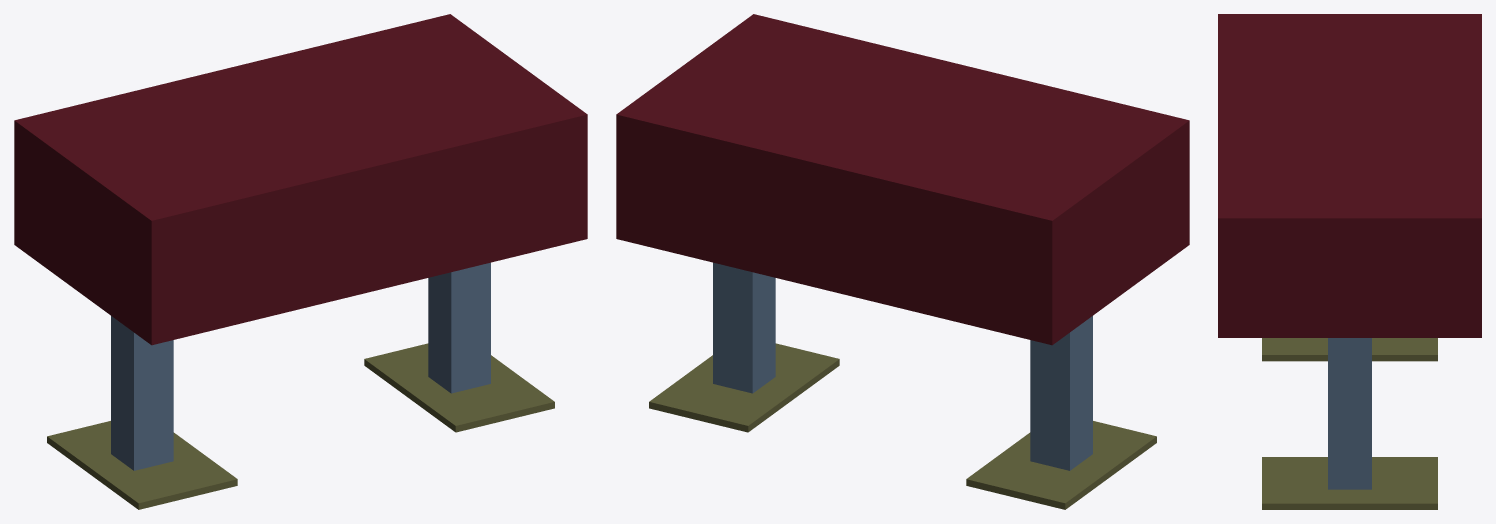
3 views of the same model, side by side, from view 1: azimuth 30°, elevation 25°; view 2: azimuth 150°, elevation 25°; view 3: azimuth 270°, elevation 25° (orthographic). The views are drawn at different scales.
Parts seen in each view (by area): view 1: 087_L103_W117; view 2: 087_L103_W117; view 3: 087_L103_W117.
Boxes of the visible parts, x1,y1,x2,y2 form: 087_L103_W117: [14, 14, 587, 509]; 087_L103_W117: [616, 14, 1189, 509]; 087_L103_W117: [1218, 14, 1481, 509].
Size of the model in its own units: 1.1 by 0.743 by 0.6.
